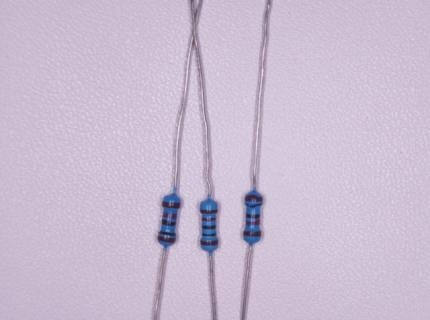Black band: (158, 230, 177, 237), (161, 219, 176, 227), (245, 202, 263, 208), (246, 213, 260, 219), (202, 224, 216, 229), (202, 233, 216, 237)
Brown band: (156, 235, 176, 243), (161, 201, 181, 209), (245, 195, 264, 202), (243, 230, 261, 237), (200, 240, 218, 246), (200, 209, 218, 214)
Red band: (245, 220, 262, 226), (163, 212, 177, 219), (201, 217, 218, 222)
